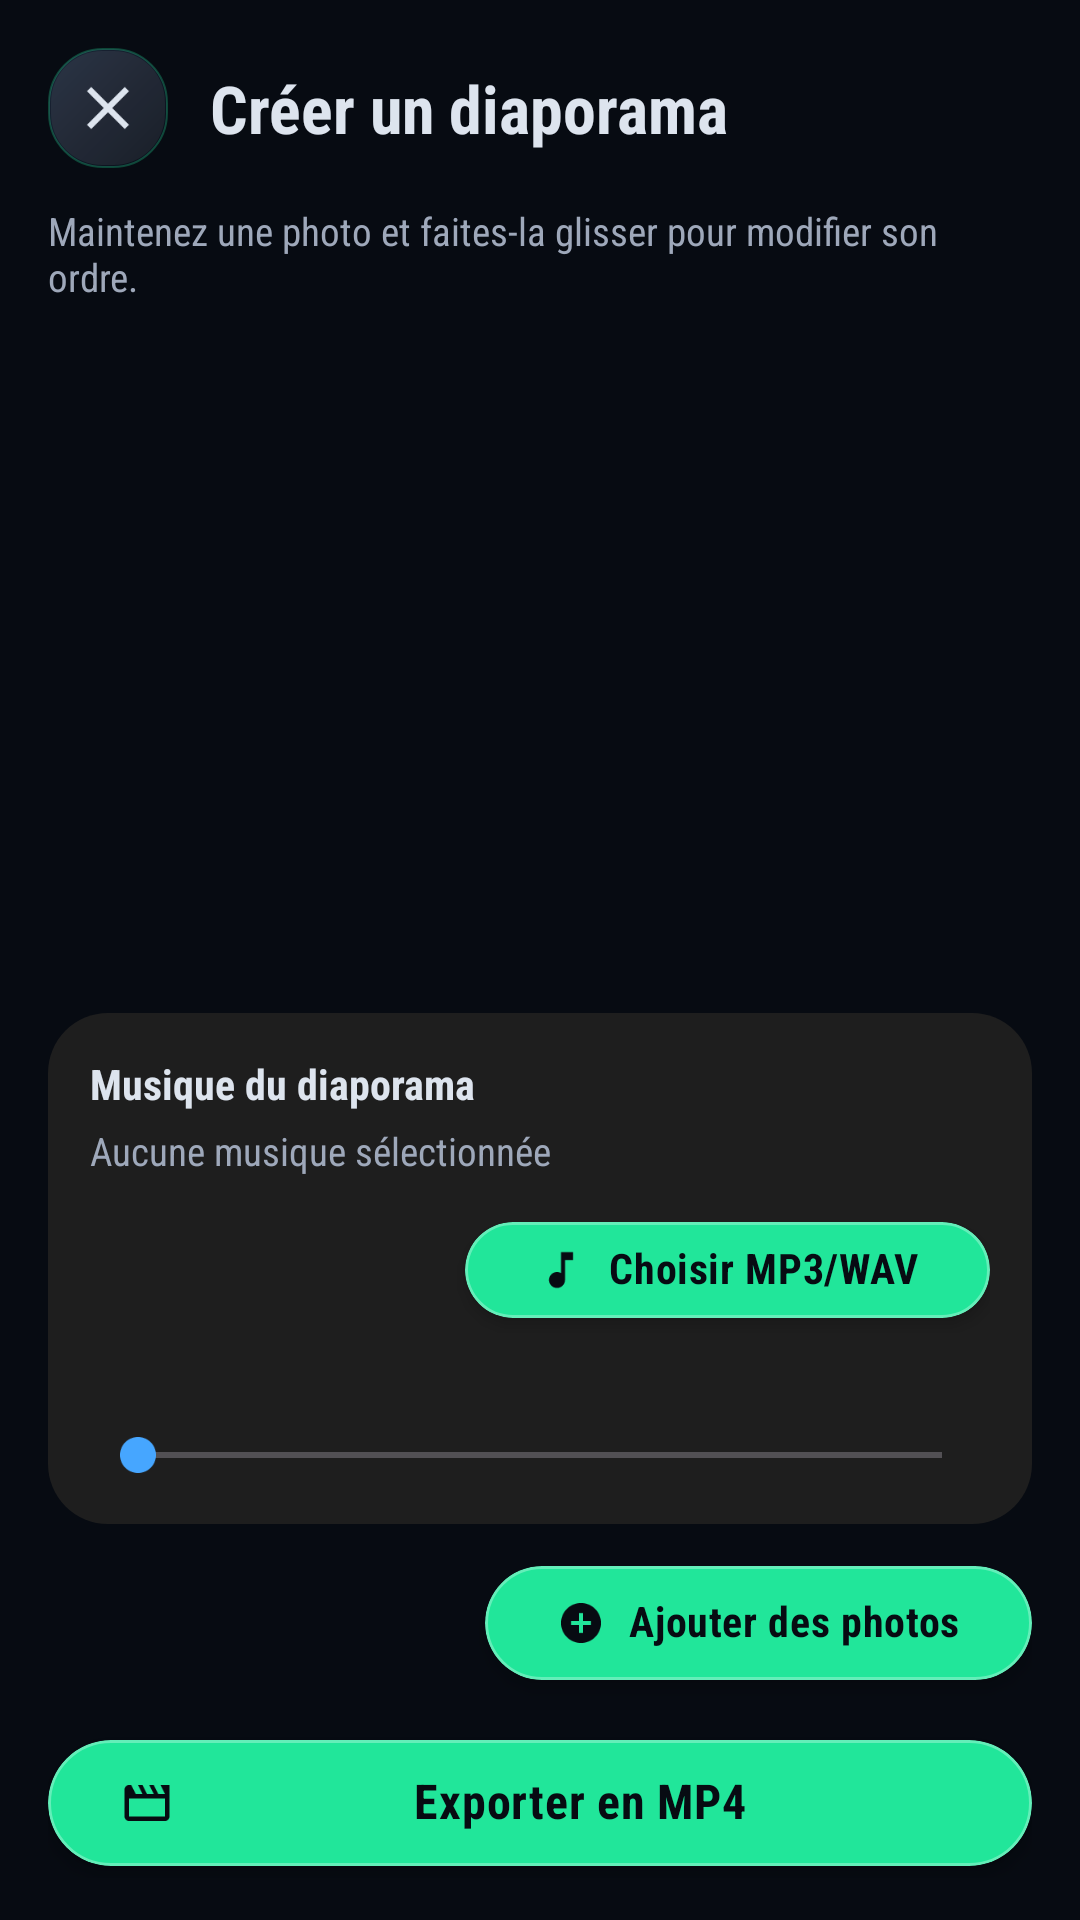

Locate icon controls on the screen. Image size 1080x1920, boxes as (x1, y1, x2, y2).
Fermer: (48, 48, 168, 168)
